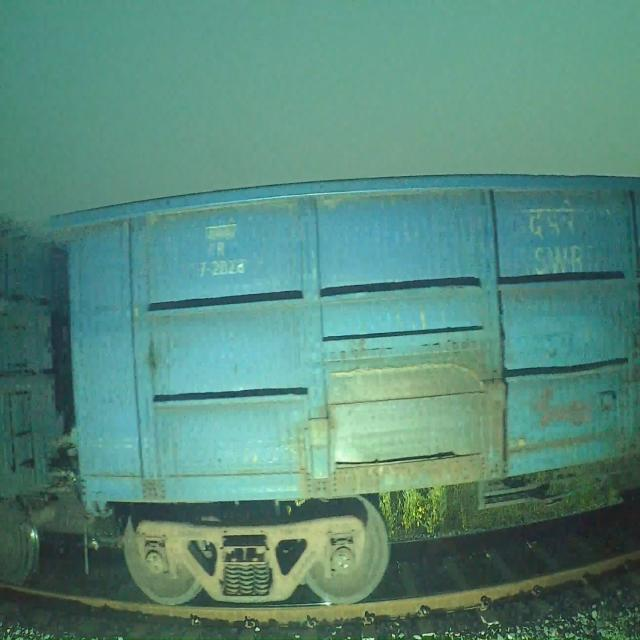WAgon-uic: (40, 165, 640, 610), (0, 212, 129, 591)
